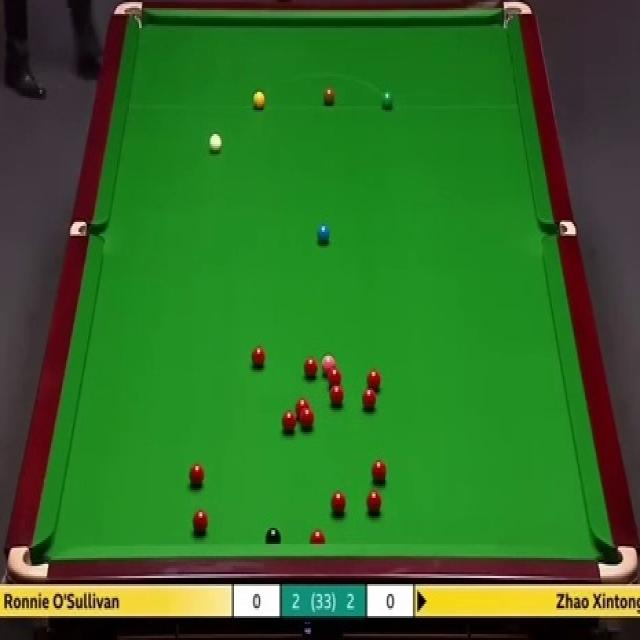black-ball: (265, 524, 281, 547)
blue-ball: (318, 225, 330, 244)
brown-ball: (323, 89, 335, 108)
green-ball: (380, 90, 395, 110)
pink-ball: (320, 352, 336, 374)
red-ball: (365, 488, 383, 516), (370, 458, 387, 485), (188, 462, 205, 487), (250, 344, 266, 370), (331, 487, 347, 513), (192, 508, 208, 533), (329, 384, 345, 408), (303, 355, 318, 379), (362, 387, 377, 411), (281, 410, 297, 432), (300, 405, 314, 429), (366, 368, 382, 388), (327, 368, 342, 386), (309, 529, 325, 544), (296, 397, 309, 415)
white-ball: (208, 131, 223, 156)
yellow-ball: (252, 88, 265, 110)
